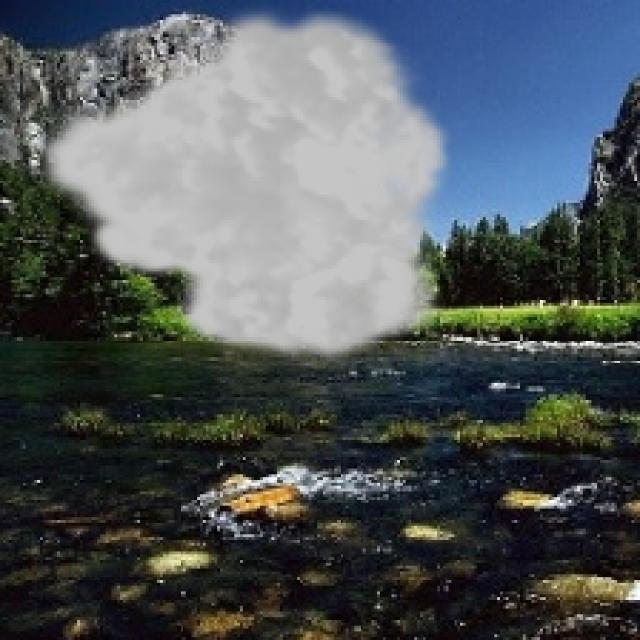Smoke: (28, 0, 454, 366)
